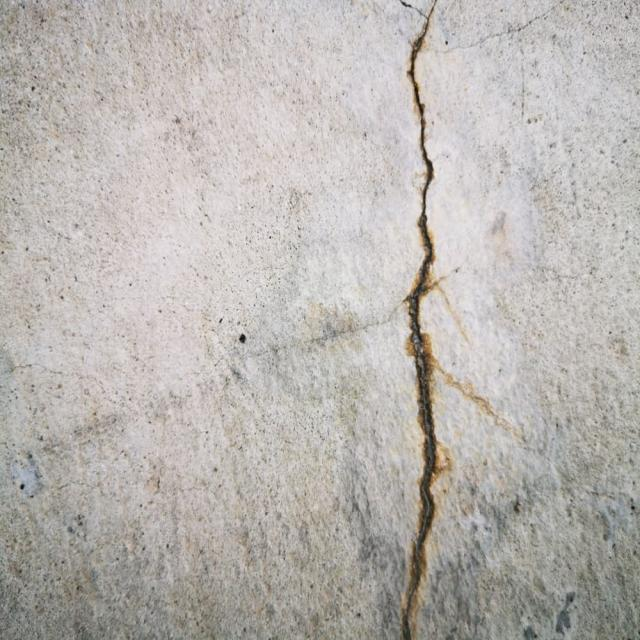Crack: (396, 0, 445, 639)
